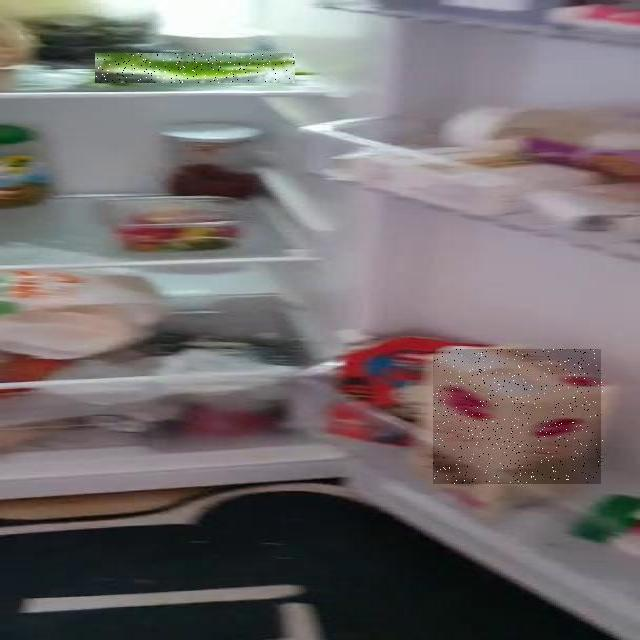milk: (132, 242, 640, 640)
